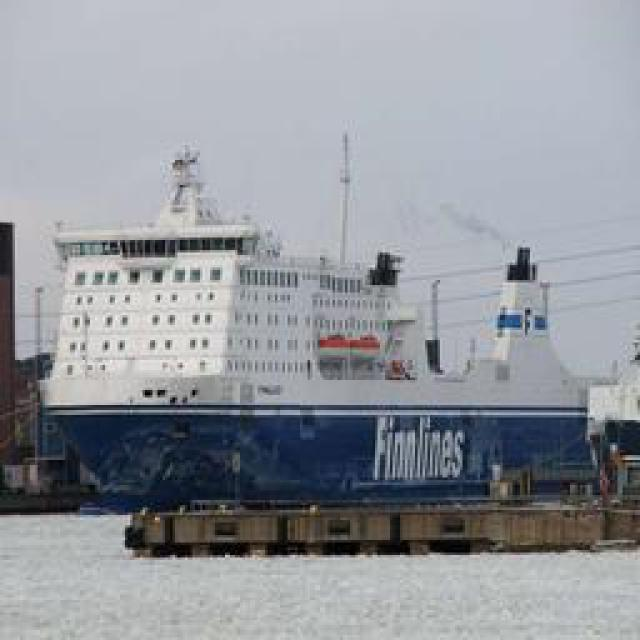Ship: (33, 101, 628, 514)
